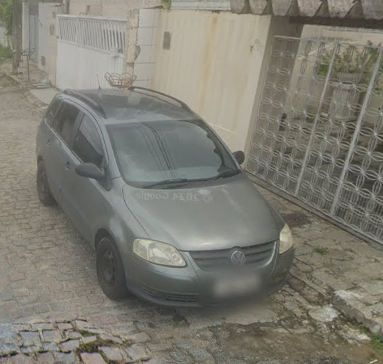car: (34, 74, 296, 313)
